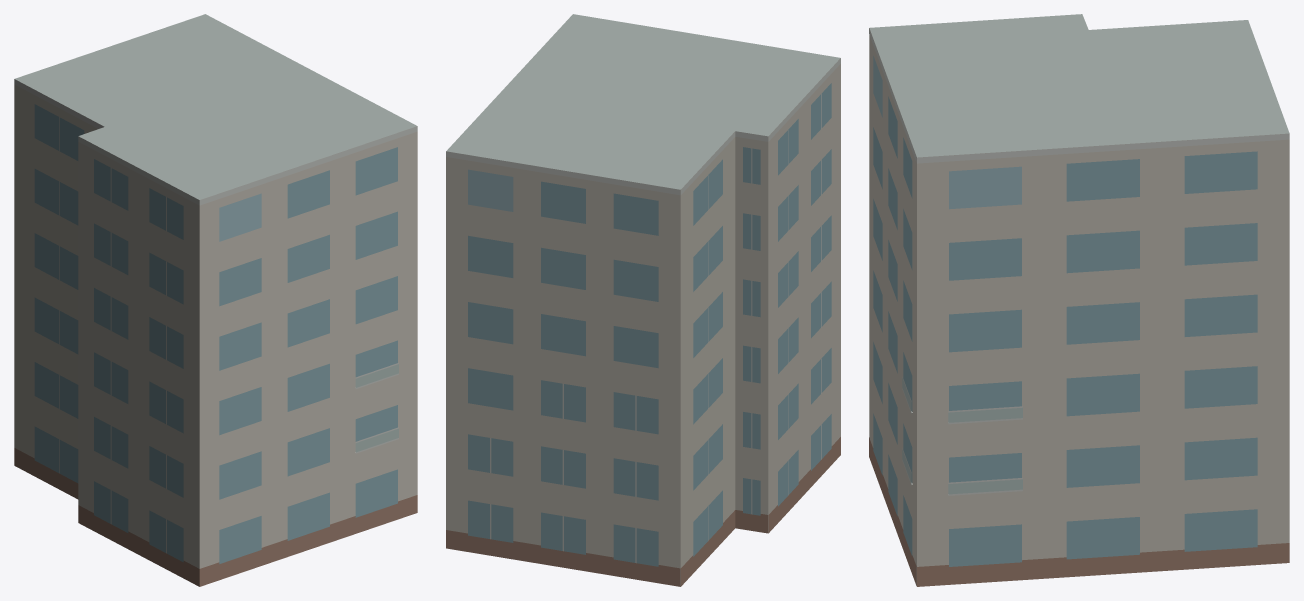
Rendered from survey-upis-33007370.glb.
3 renders of one model, left to right at view 1: azimuth 30°, elevation 25°; view 2: azimuth 150°, elevation 25°; view 3: azimuth 270°, elevation 25°, orthographic. The views are drawn at different scales.
Parts seen in each view (by area): view 1: survey-upis-33007370.tmp; view 2: survey-upis-33007370.tmp; view 3: survey-upis-33007370.tmp.
Part boxes in pixels (x1,y1,x2,y2): survey-upis-33007370.tmp: (14,14,417,586); survey-upis-33007370.tmp: (446,14,840,586); survey-upis-33007370.tmp: (869,14,1289,586).
Size of the model in its own units: 12.41 by 17.3 by 15.36.
